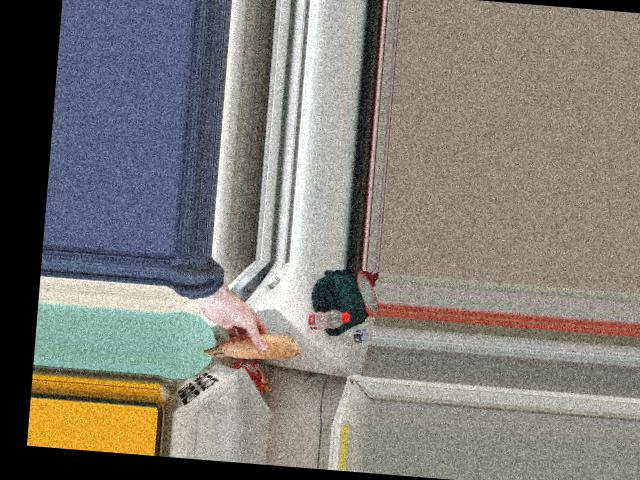sweet_potato: (204, 324, 306, 370)
